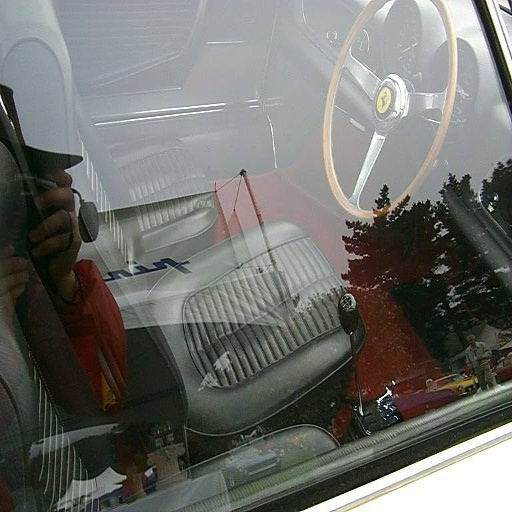hand: (16, 149, 94, 282)
